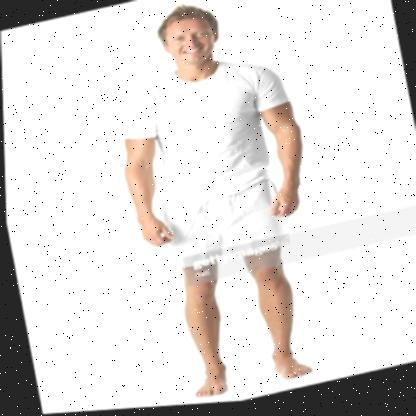person: (86, 0, 350, 410)
